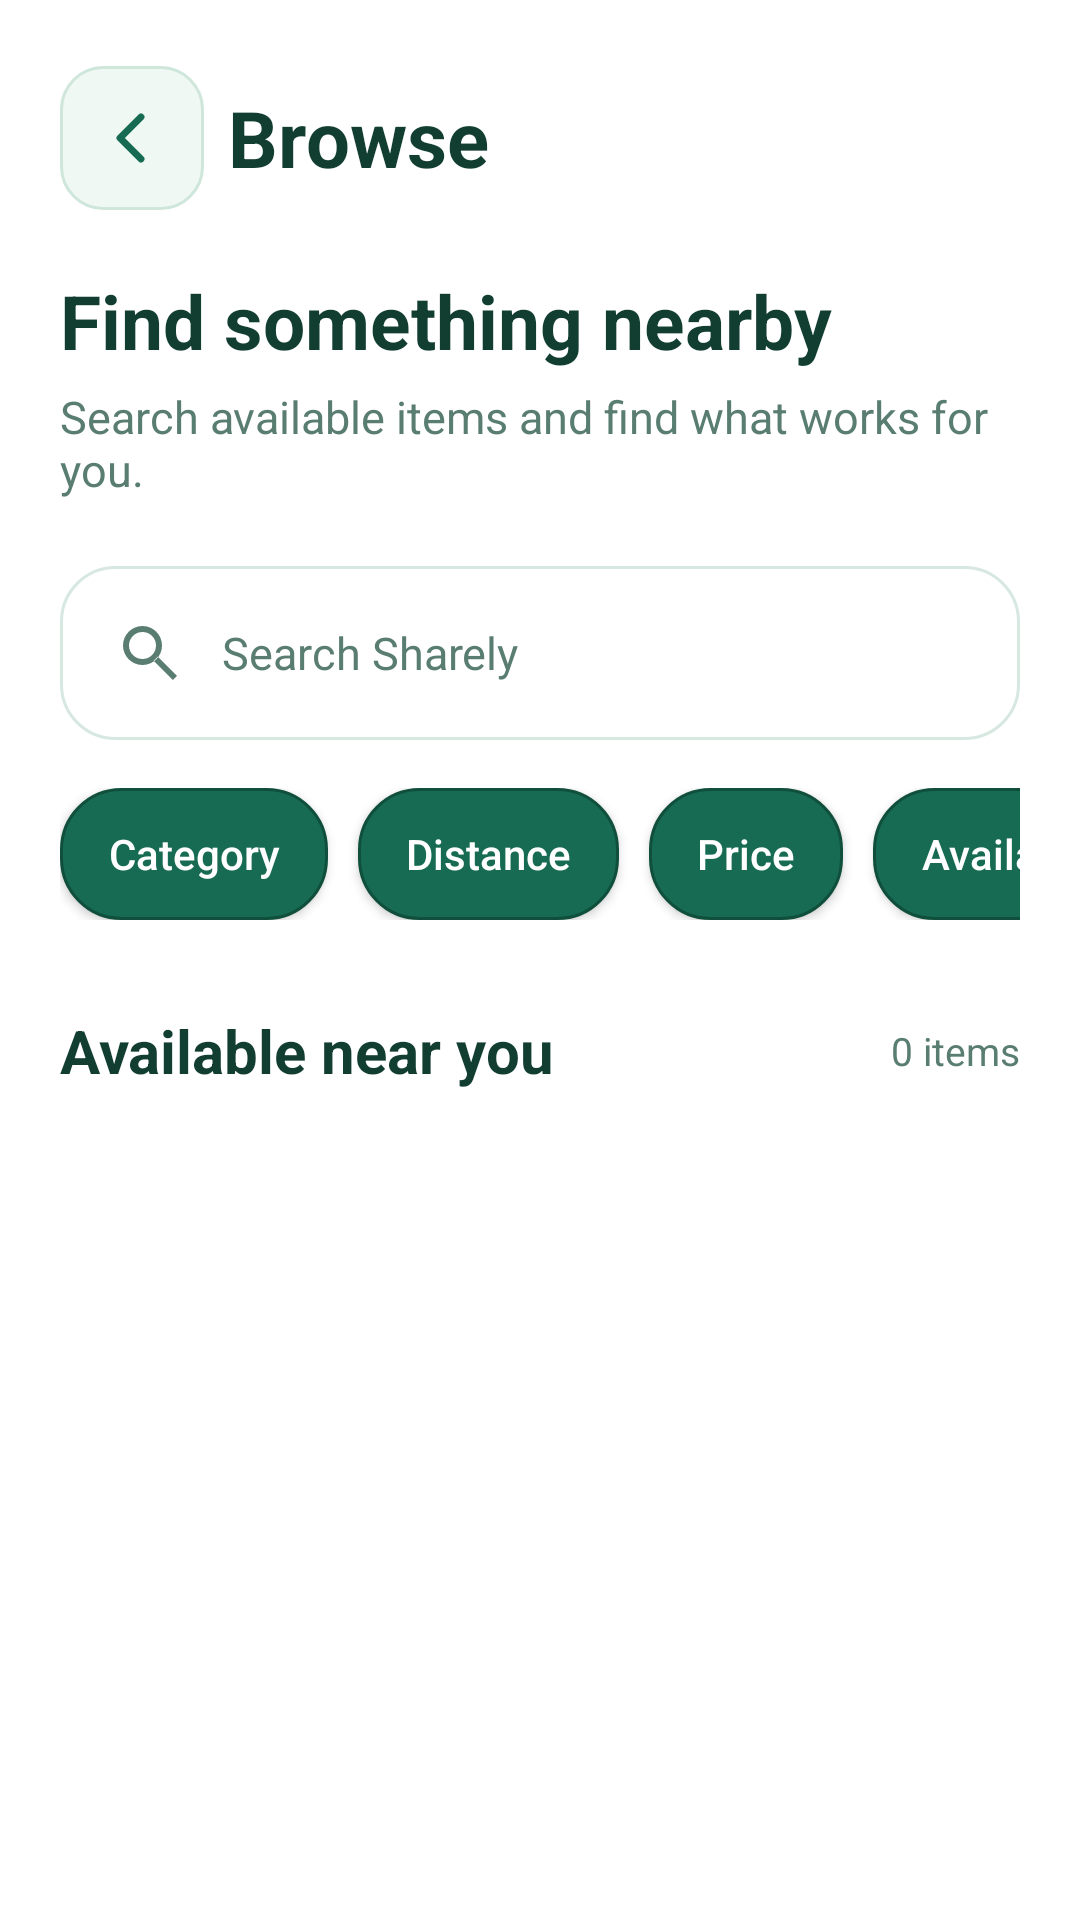

Icon bounding boxes for this 1080 x 1920 phone screenshot, format box=[x1, y1, x2, y2]:
Back: box=[60, 66, 204, 210]
